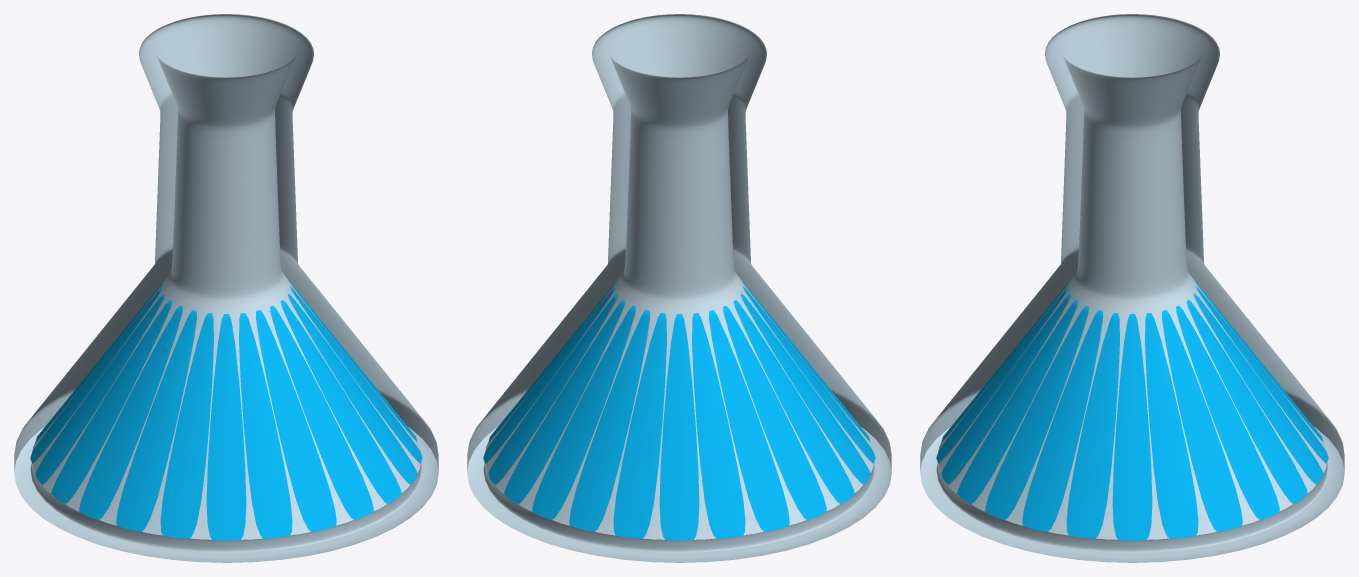
The model's file is chemistry12.glb.
3 views of the same model, side by side, from view 1: azimuth 30°, elevation 25°; view 2: azimuth 150°, elevation 25°; view 3: azimuth 270°, elevation 25° (orthographic).
Bounding box in the file's own units: 0.5078 × 0.5809 × 0.5078.
